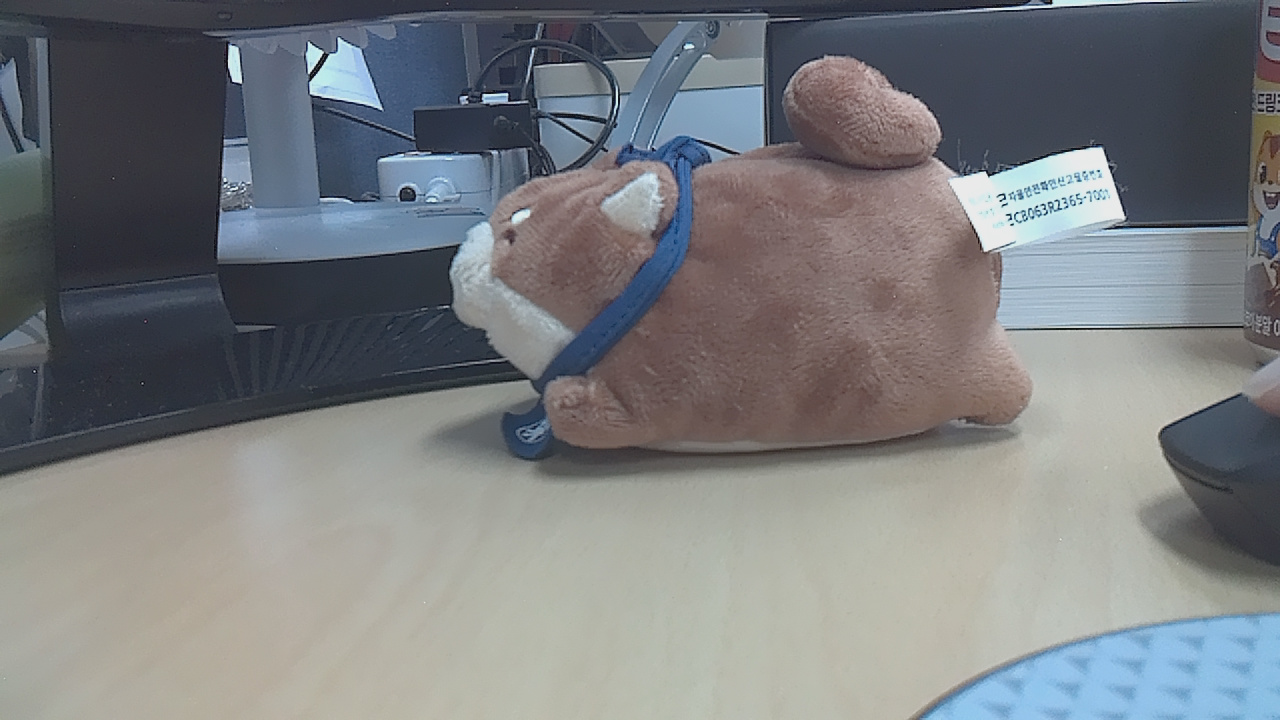cuteDog: (445, 58, 1097, 478)
